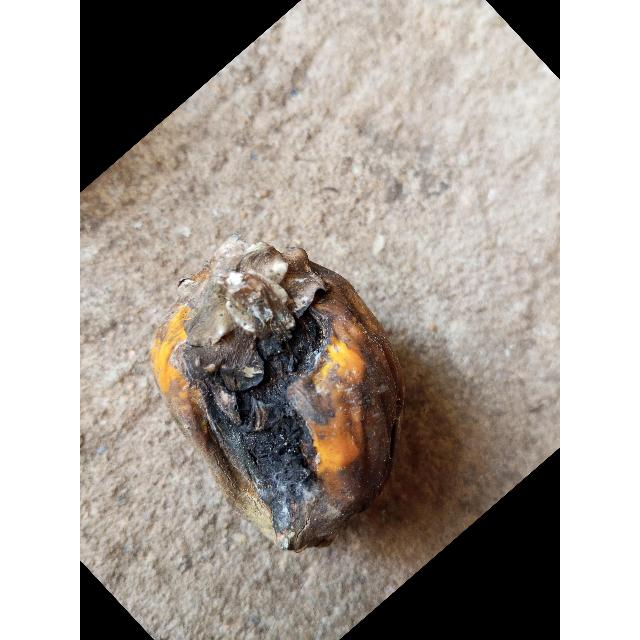damaged: (148, 233, 408, 555)
